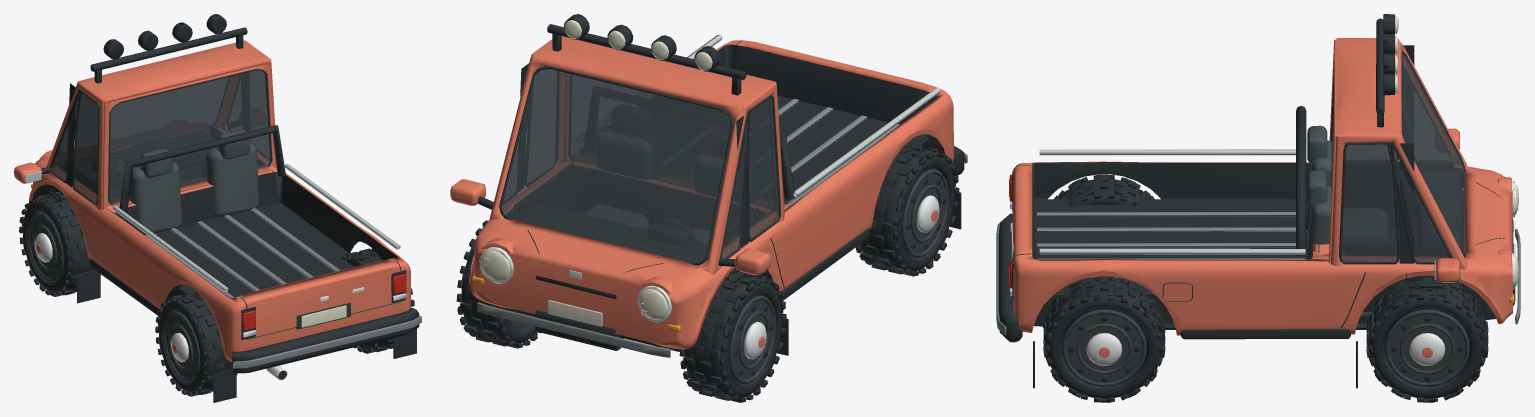
Rendered from hauler_lod2.fbx.
3 views of the same model, side by side, from view 1: azimuth 30°, elevation 25°; view 2: azimuth 150°, elevation 25°; view 3: azimuth 270°, elevation 25° (orthographic). The views are drawn at different scales.
Visible parts, largest first — view 1: Body, Wheel_RL_Mesh, Wheel_FL_Mesh, Wheel_RR_Mesh; view 2: Body, Wheel_FL_Mesh, Wheel_RL_Mesh, Wheel_FR_Mesh; view 3: Body, Wheel_RR_Mesh, Wheel_FR_Mesh, Wheel_RL_Mesh.
Boxes of the visible parts, x1,y1,x2,y2 form: Body: [14, 14, 421, 402]; Wheel_RL_Mesh: [155, 291, 237, 396]; Wheel_FL_Mesh: [19, 191, 100, 296]; Wheel_RR_Mesh: [341, 248, 414, 353]; Body: [450, 14, 967, 357]; Wheel_FL_Mesh: [679, 269, 786, 402]; Wheel_RL_Mesh: [855, 143, 959, 276]; Wheel_FR_Mesh: [456, 220, 541, 348]; Body: [996, 14, 1520, 388]; Wheel_RR_Mesh: [1043, 276, 1165, 402]; Wheel_FR_Mesh: [1366, 276, 1488, 402]; Wheel_RL_Mesh: [1054, 174, 1154, 205].
Bounding box in the file's own units: 229 × 225 × 357.
